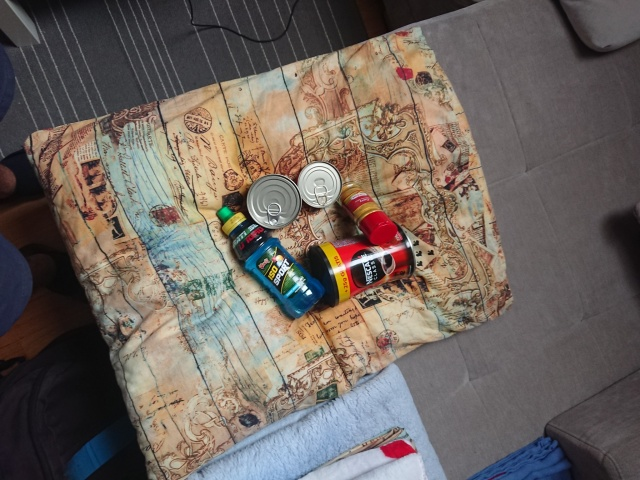Gavrilovic Pork Liver Pate 100g: (295, 159, 344, 210)
Giana Tuna Salad Mexico 185g: (244, 171, 304, 232)
Kotanyi Curry Spices Mix 70g: (333, 179, 400, 248)
Nescafe Classic 225g: (308, 218, 418, 309)
Vindi Iso Sport Forest Strawberries 500mL: (214, 205, 329, 321)
